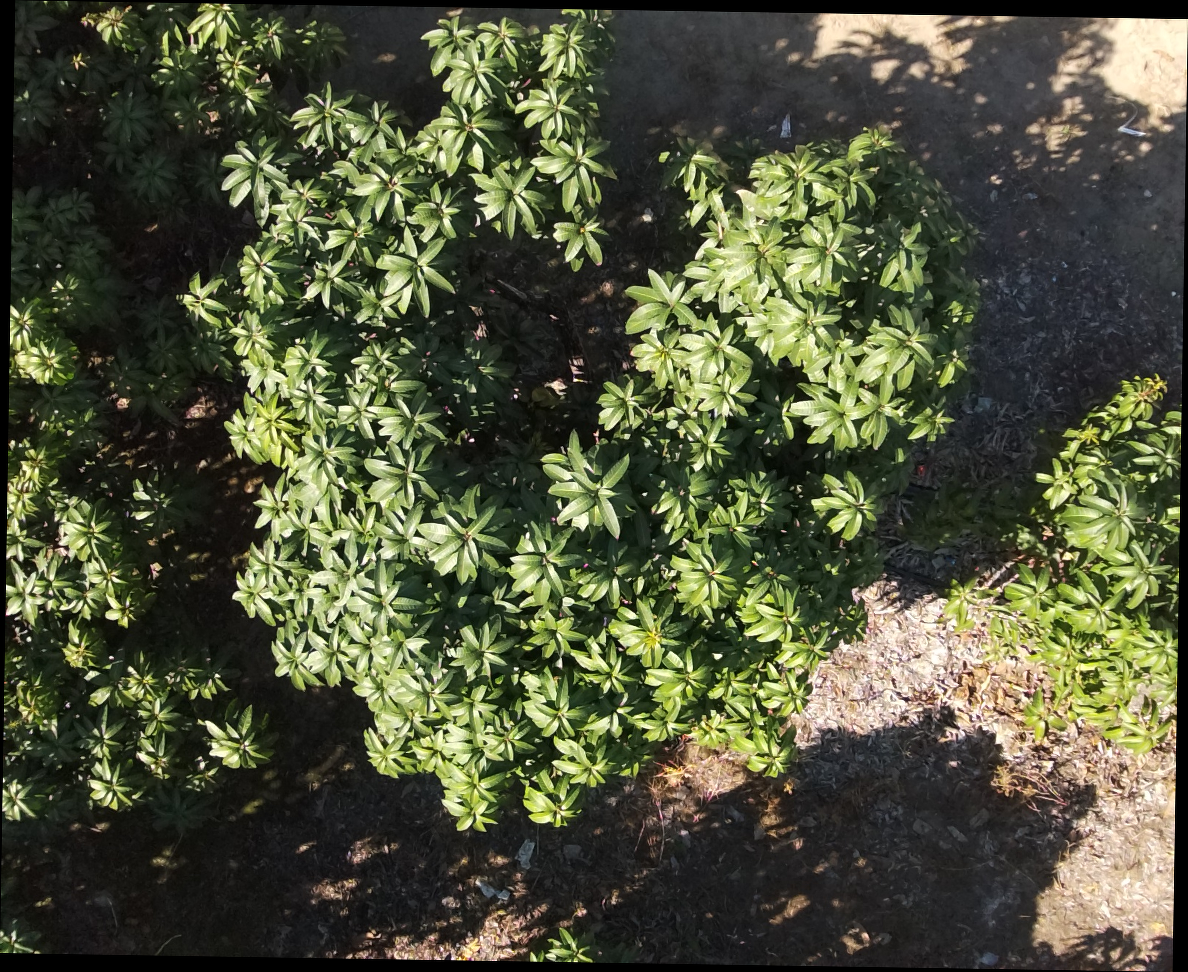flowers: (80, 5, 134, 43)
